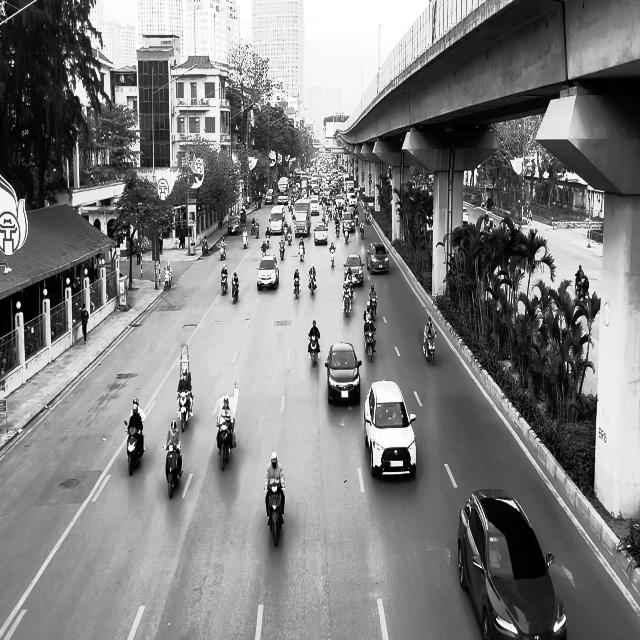car: (457, 487, 567, 640), (364, 379, 416, 478), (324, 342, 362, 403), (256, 254, 279, 290), (366, 242, 389, 274), (343, 253, 364, 286), (314, 222, 328, 245), (227, 216, 241, 234)
motorbike: (264, 483, 285, 547), (124, 419, 145, 476), (162, 443, 182, 499), (216, 420, 236, 471), (176, 390, 193, 432), (364, 324, 376, 362), (575, 273, 589, 302), (424, 333, 436, 366), (308, 335, 320, 367), (342, 290, 352, 318), (308, 271, 317, 294), (163, 268, 172, 291), (231, 280, 239, 304), (293, 276, 301, 299), (369, 296, 377, 317), (221, 273, 228, 295), (329, 247, 335, 267), (298, 244, 305, 261), (242, 232, 248, 249)
